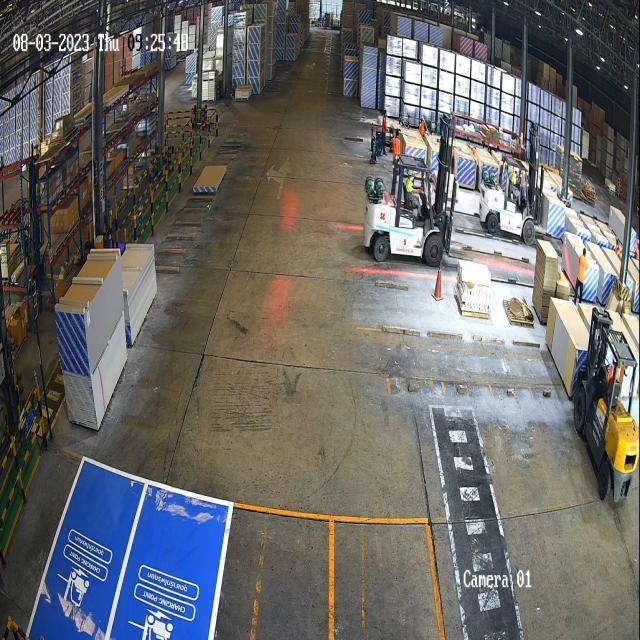driver: (402, 166, 424, 218), (600, 356, 620, 400), (508, 166, 522, 210)
forklift: (572, 304, 640, 510), (361, 150, 455, 266), (477, 150, 549, 246)
person: (574, 247, 588, 306), (381, 111, 388, 152), (393, 130, 401, 153)
